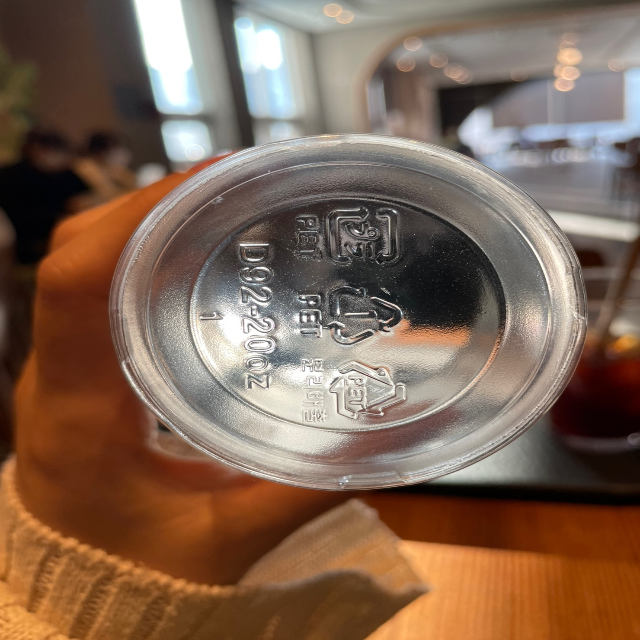pet: (293, 282, 418, 352), (297, 350, 412, 424), (294, 202, 402, 270)
